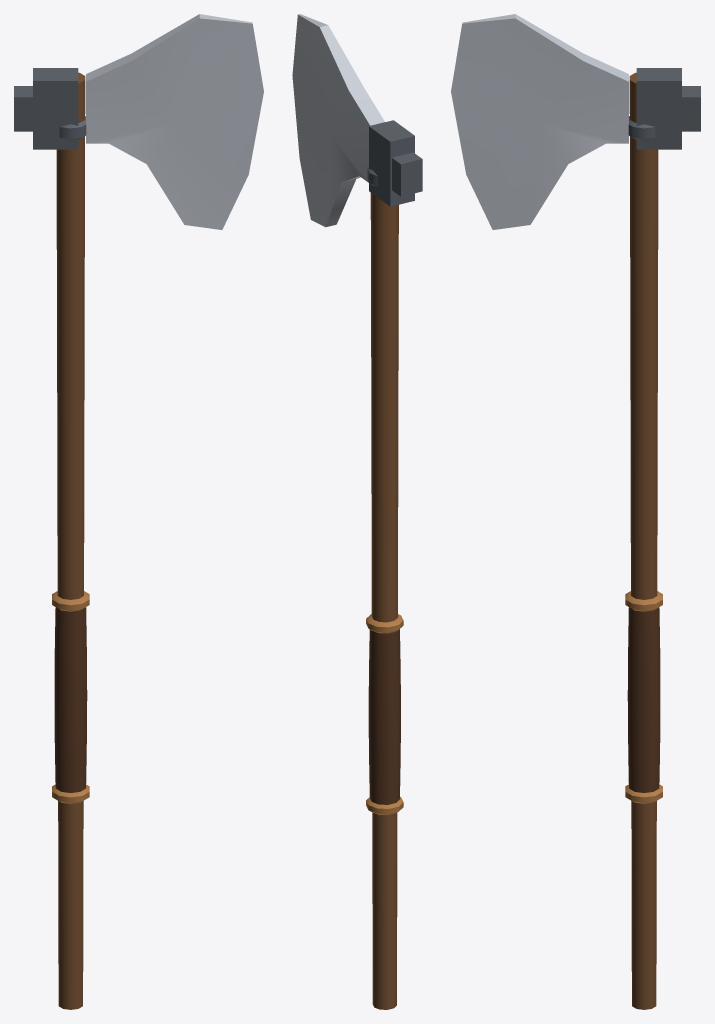
Rendered from axe_bearded.glb.
The picture shows the model from 3 angles, left to right: view 1: azimuth 90°, elevation 25°; view 2: azimuth 210°, elevation 25°; view 3: azimuth 270°, elevation 25°; orthographic projection. The views are drawn at different scales.
Parts seen in each view (by area): view 1: axe_bearded; view 2: axe_bearded; view 3: axe_bearded.
Part boxes in pixels (left/top/right/bottom): axe_bearded: left=14, top=14, right=263, bottom=1009; axe_bearded: left=292, top=14, right=422, bottom=1009; axe_bearded: left=451, top=14, right=700, bottom=1009.
Size of the model in its own units: 0.0525 by 1.44 by 0.33.
